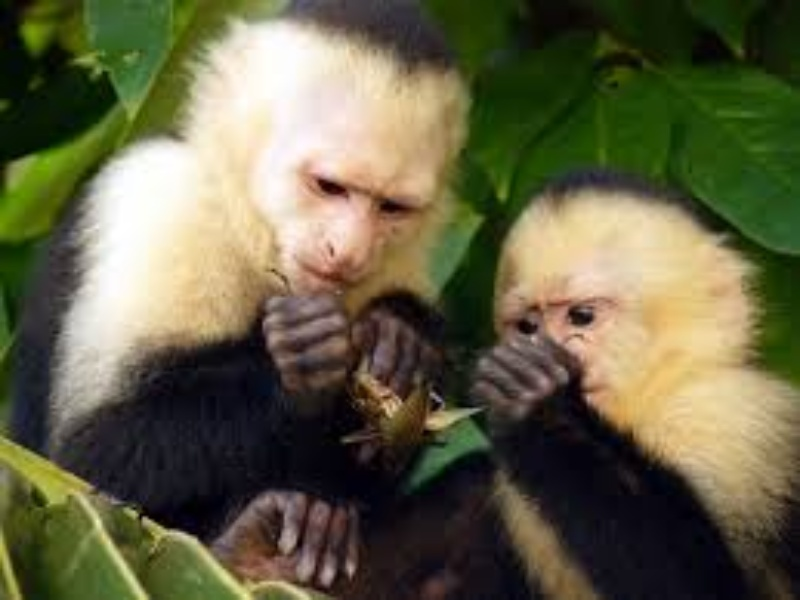monkey: (32, 17, 788, 588)
